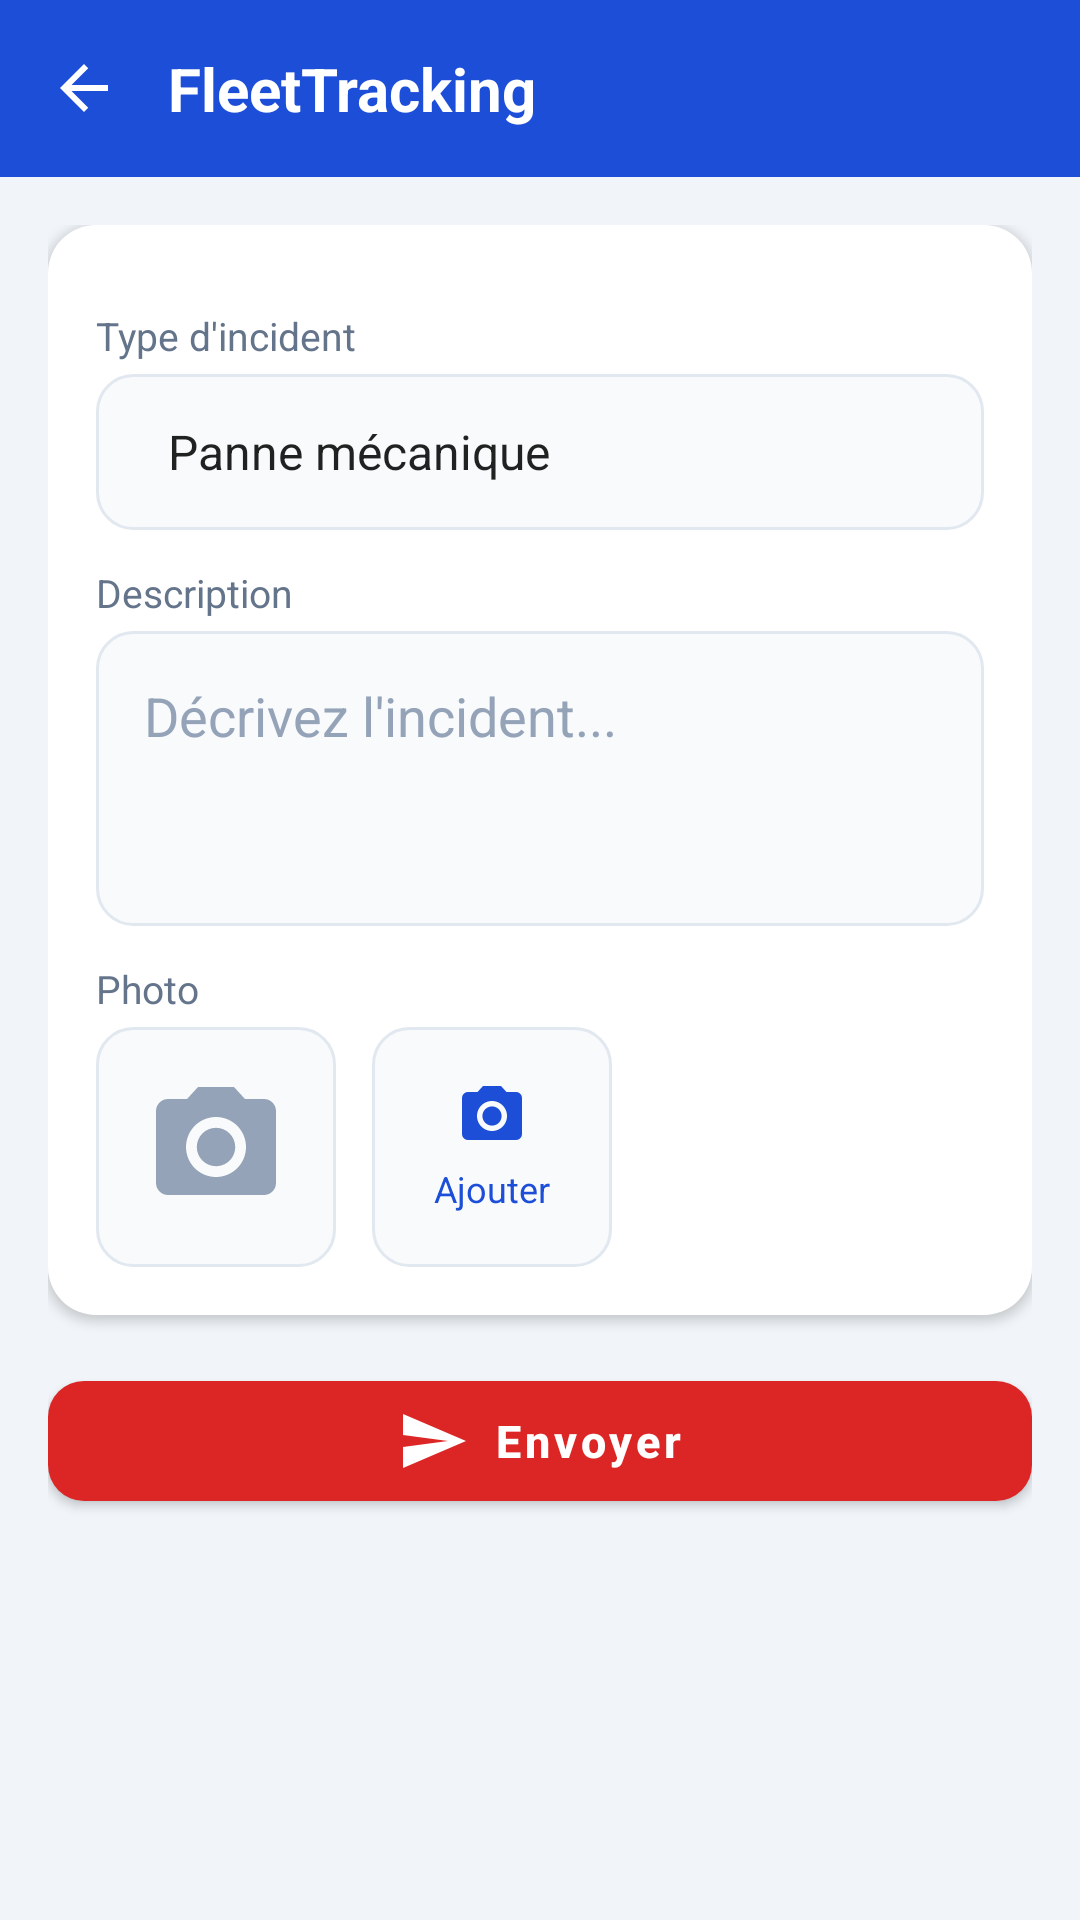

Where icons sit on this 1080 x 1920 app screen, as bbox(x1, y1, x2, y2):
Retour: bbox(60, 64, 108, 112)
